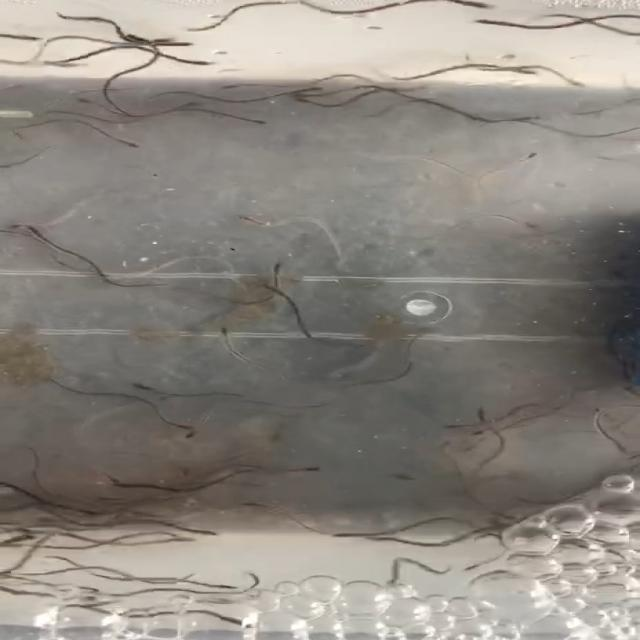active_glass_eel: (280, 92, 338, 109), (441, 415, 487, 432), (222, 110, 270, 126), (113, 29, 160, 45), (502, 148, 554, 162), (184, 520, 220, 540), (124, 376, 158, 397), (205, 572, 239, 592), (366, 532, 414, 546), (373, 573, 412, 590), (172, 424, 205, 444), (224, 612, 260, 630), (0, 159, 40, 175), (104, 472, 144, 488), (466, 402, 494, 423), (465, 11, 501, 27), (504, 114, 548, 127), (302, 78, 340, 93), (388, 463, 418, 482), (7, 531, 42, 547), (181, 27, 224, 40), (212, 326, 246, 342), (232, 495, 268, 510), (468, 423, 498, 441), (227, 210, 260, 226), (331, 527, 366, 542), (2, 32, 42, 45), (293, 462, 327, 476), (156, 37, 195, 49), (584, 154, 620, 167), (506, 64, 535, 80), (263, 260, 295, 274), (144, 32, 181, 44), (554, 77, 598, 87), (0, 219, 29, 234), (217, 79, 251, 91), (168, 537, 203, 548), (192, 56, 219, 70), (21, 223, 43, 239), (513, 220, 539, 232), (114, 140, 141, 151), (464, 1, 491, 12)
